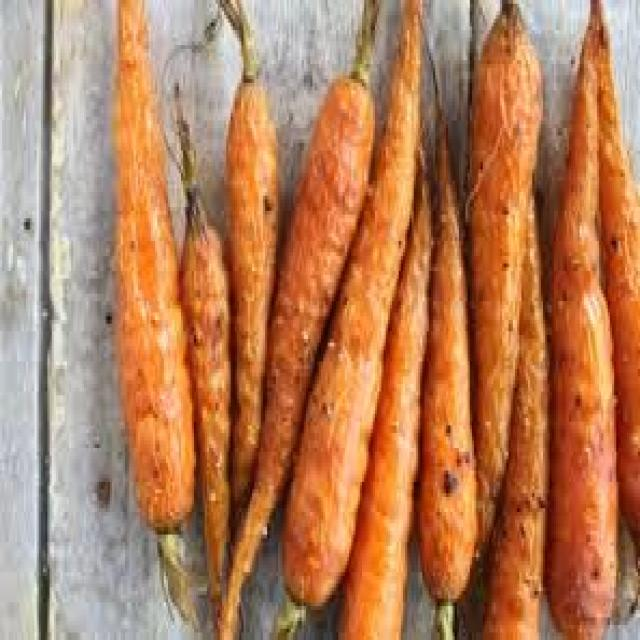Stale_Carrot: (284, 118, 482, 638), (474, 7, 546, 547), (178, 105, 230, 604), (219, 452, 280, 638)
